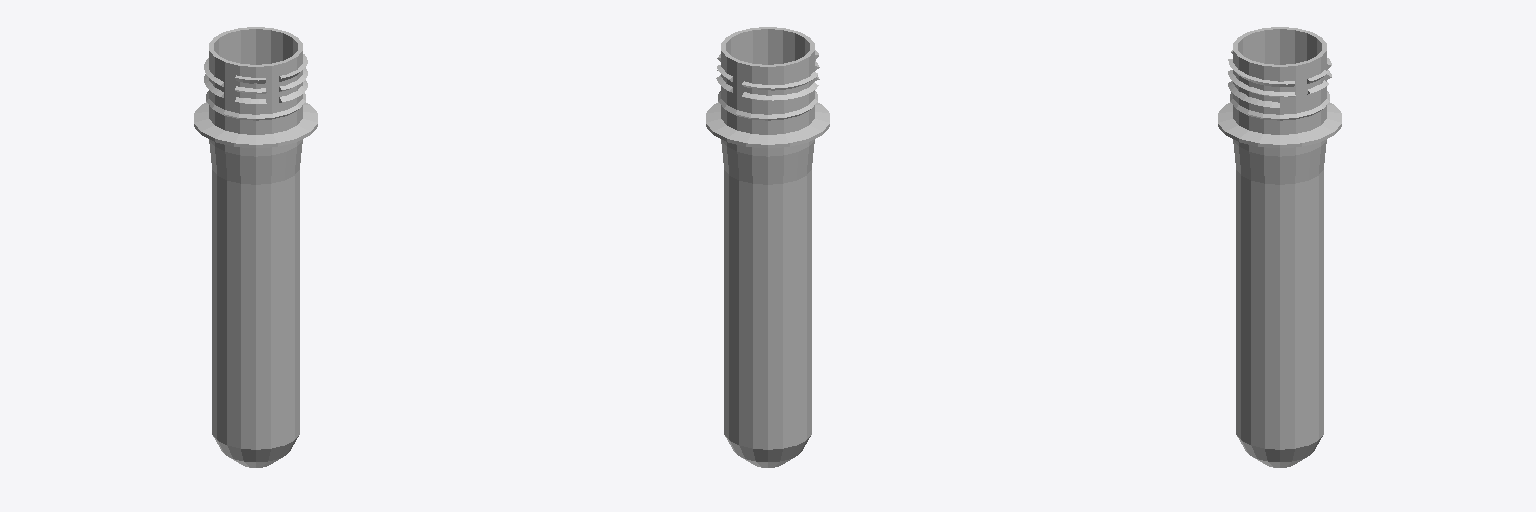
File: mdl_preforma_pet_1816mm.obj
3 renders of one model, left to right at view 1: azimuth 30°, elevation 25°; view 2: azimuth 150°, elevation 25°; view 3: azimuth 270°, elevation 25°, orthographic.
Parts seen in each view (by area): view 1: mdl_preforma_pet_1816mm; view 2: mdl_preforma_pet_1816mm; view 3: mdl_preforma_pet_1816mm.
Part boxes in pixels (bbox=[...]): mdl_preforma_pet_1816mm: bbox=[194, 27, 317, 467]; mdl_preforma_pet_1816mm: bbox=[706, 27, 829, 467]; mdl_preforma_pet_1816mm: bbox=[1218, 27, 1341, 467].
Size of the model in its own units: 3.63 by 13.2 by 3.58.